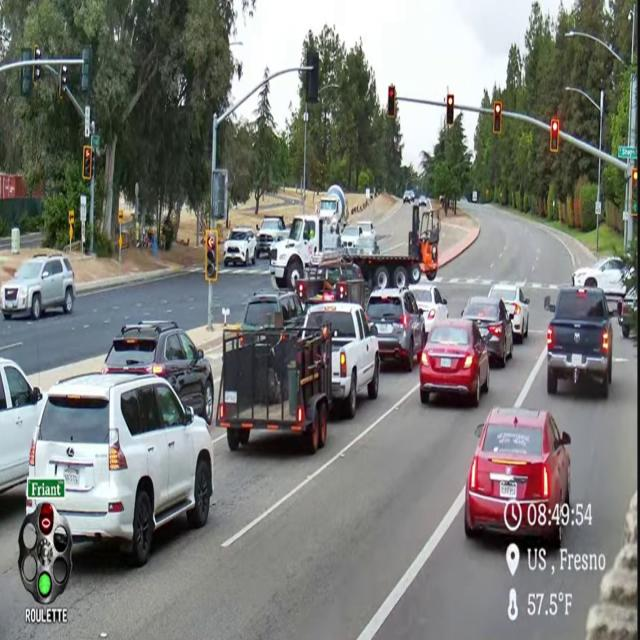car: (29, 373, 213, 566), (464, 408, 570, 547), (102, 320, 214, 424), (419, 319, 489, 406), (0, 359, 42, 493), (366, 288, 425, 371), (0, 255, 75, 319), (462, 296, 513, 367), (241, 290, 304, 330), (489, 284, 529, 343), (572, 257, 628, 295), (409, 283, 448, 335), (223, 227, 256, 266), (340, 222, 378, 254), (618, 288, 637, 338), (403, 190, 414, 203), (419, 195, 427, 206)
traffic signal: (204, 229, 218, 282), (306, 50, 319, 103), (80, 47, 92, 93), (39, 504, 54, 535), (20, 66, 32, 97), (82, 145, 92, 181), (387, 85, 396, 119), (59, 65, 68, 99), (493, 101, 502, 135), (550, 119, 559, 152), (631, 168, 637, 217), (446, 95, 454, 126), (32, 64, 41, 82), (632, 168, 637, 186)
truck: (216, 304, 379, 454), (216, 328, 331, 454), (270, 205, 439, 289), (303, 303, 379, 418), (544, 287, 617, 397), (297, 264, 369, 309), (316, 184, 347, 231), (256, 216, 288, 258), (340, 222, 379, 255)
